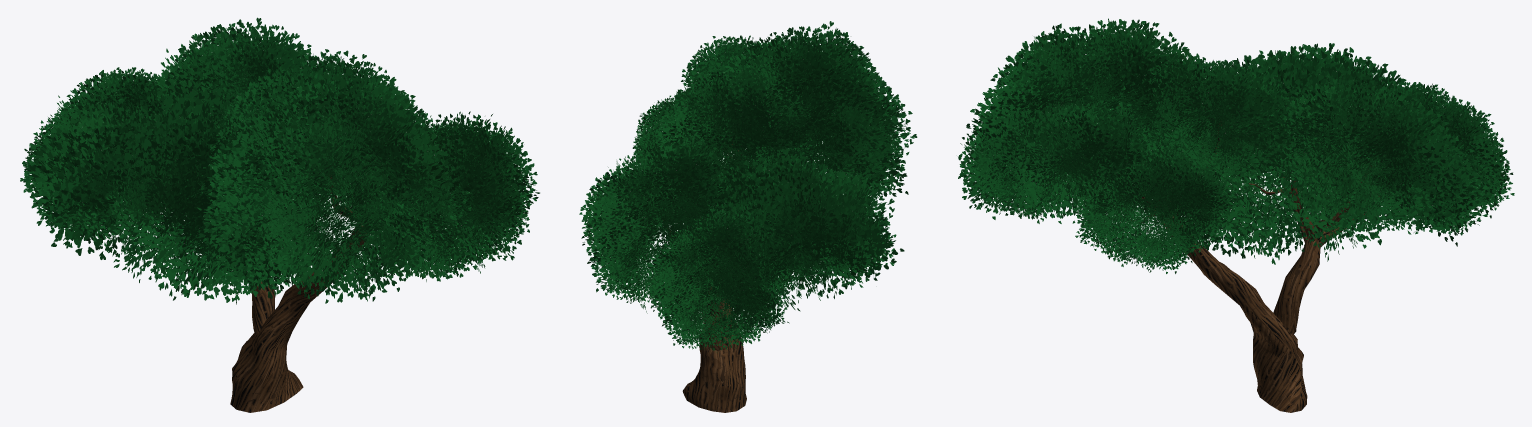
The model's file is tree 5.fbx.
The picture shows the model from 3 angles, left to right: view 1: azimuth 30°, elevation 25°; view 2: azimuth 150°, elevation 25°; view 3: azimuth 270°, elevation 25°; orthographic projection. The views are drawn at different scales.
Parts seen in each view (by area): view 1: Plane.299; view 2: Plane.299; view 3: Plane.299.
Part boxes in pixels (x1,y1,x2,y2): Plane.299: (20,17,539,412); Plane.299: (579,21,917,412); Plane.299: (958,18,1514,412).
Bounding box in the file's own units: 1344 × 1255 × 1717.
